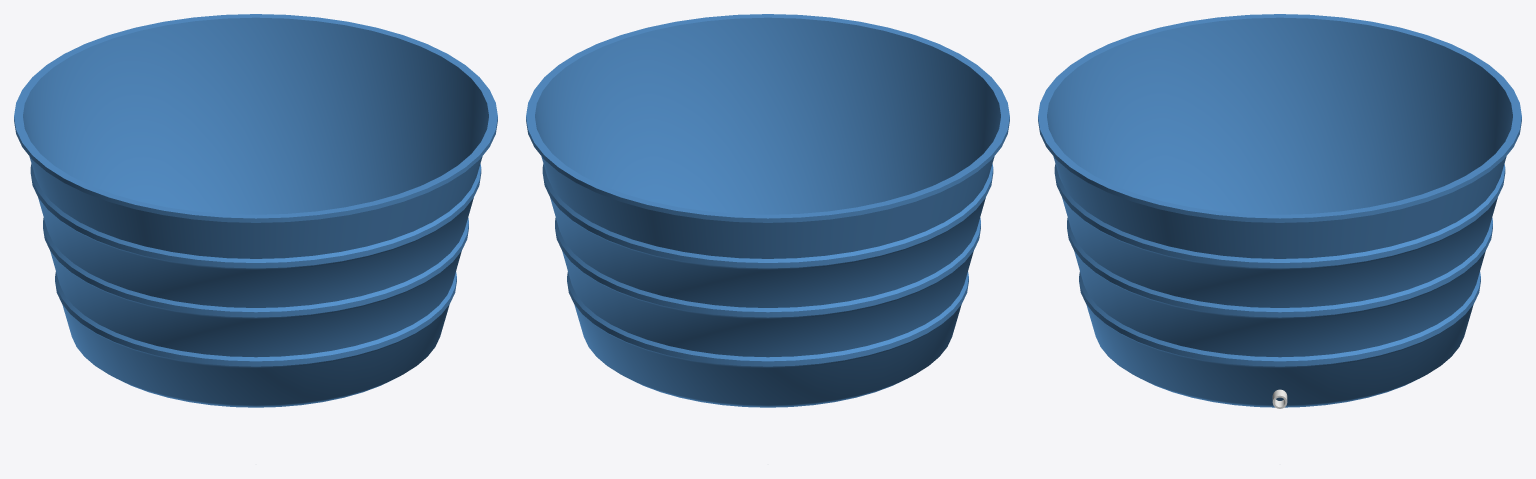
Rendered from HID-RES-003_anim.glb.
3 views of the same model, side by side, from view 1: azimuth 30°, elevation 25°; view 2: azimuth 150°, elevation 25°; view 3: azimuth 270°, elevation 25° (orthographic).
Parts seen in each view (by area): view 1: HID-RES-003_anim0; view 2: HID-RES-003_anim0; view 3: HID-RES-003_anim0.
Boxes of the visible parts, bbox=[...] form: HID-RES-003_anim0: bbox=[14, 14, 497, 407]; HID-RES-003_anim0: bbox=[526, 14, 1009, 407]; HID-RES-003_anim0: bbox=[1038, 14, 1521, 408].
Size of the model in its own units: 1.98 by 1.57 by 1.98.
